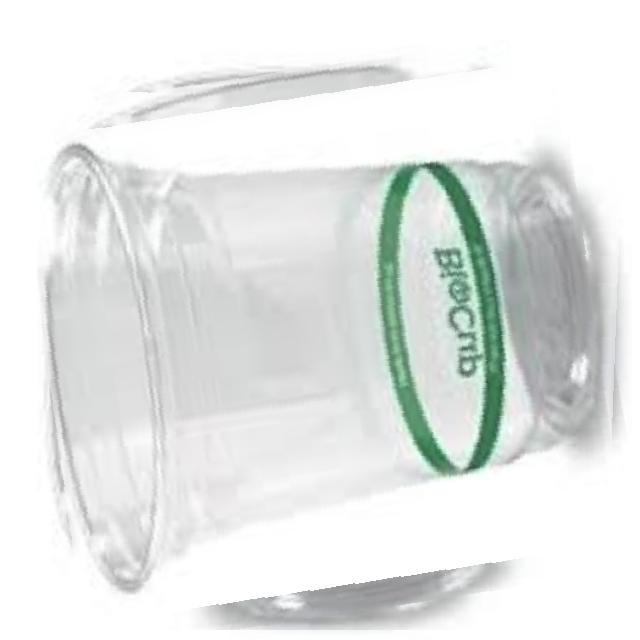recyclable: (37, 40, 626, 630)
